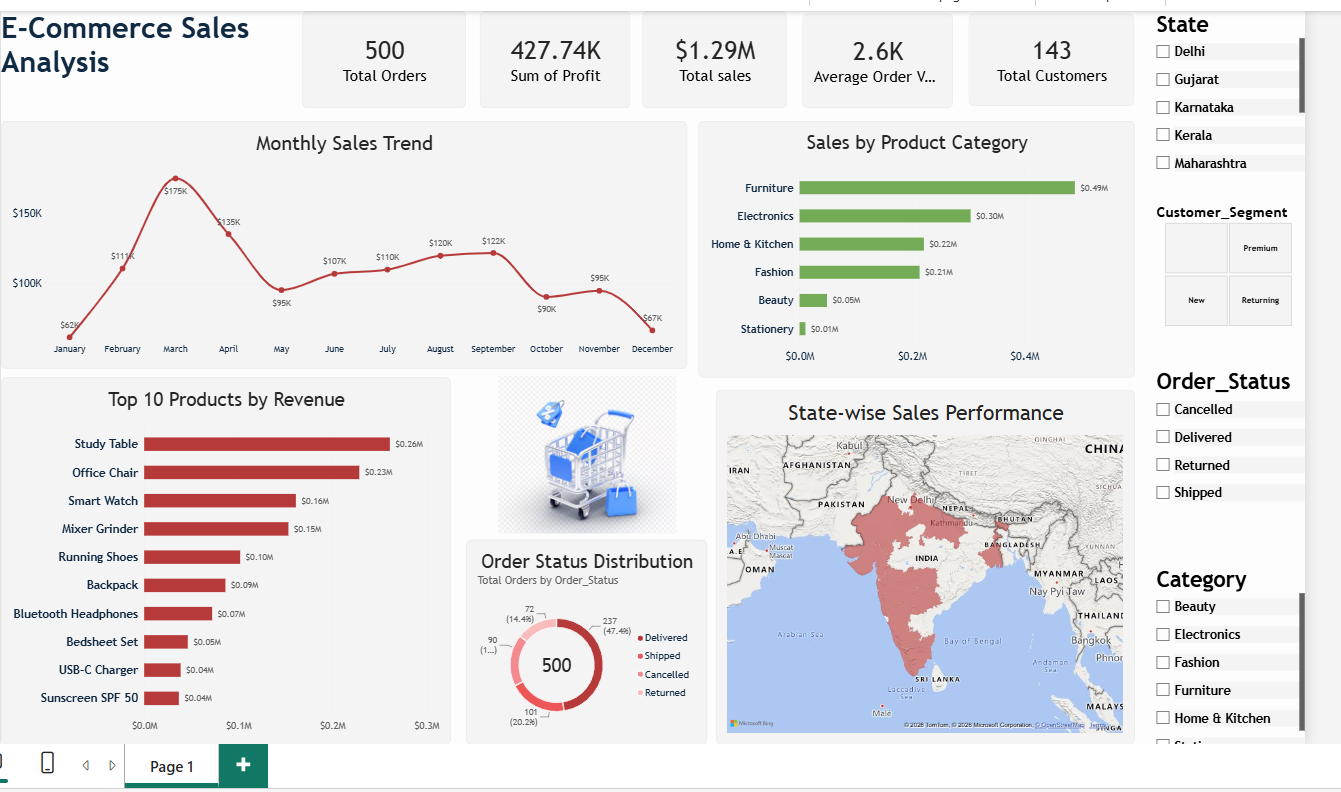

What the dashboard file says about the page in this screenshot:
{"tool":"powerbi","page":{"name":"Page 1","canvas":[1920,1080],"ordinal":0},"visuals":[{"type":"cardVisual","fields":{"Data":["ecommerce_orders.Total Customers"]},"box":[1424.5,3.7,244.8,136.2],"z":0},{"type":"cardVisual","fields":{"Data":["ecommerce_orders.Total sales"]},"box":[944.2,0,213.5,143.6],"z":1},{"type":"cardVisual","fields":{"Data":["ecommerce_orders.Average Order Value"]},"box":[1179.8,3.7,222.7,139.9],"z":3},{"type":"cardVisual","fields":{"Data":["ecommerce_orders.Total Orders"]},"box":[443.6,0,241.1,143.6],"z":4},{"type":"lineChart","title":"Monthly Sales Trend","fields":{"Category":["ecommerce_orders.Order_Date.Variation.Date Hierarchy.Month"],"Y":["ecommerce_orders.Total sales"]},"box":[0,162,1010.4,364.4],"z":5},{"type":"barChart","title":"Sales by Product Category","fields":{"Category":["ecommerce_orders.Category"],"Y":["ecommerce_orders.Total sales"]},"box":[1027,162,642.3,377.3],"z":6},{"type":"barChart","title":"Top 10 Products by Revenue","fields":{"Category":["ecommerce_orders.Product_Name"],"Y":["ecommerce_orders.Total sales"]},"box":[0,539.3,662.6,541.1],"z":7},{"type":"donutChart","title":"Order Status Distribution","fields":{"Category":["ecommerce_orders.Order_Status"],"Y":["ecommerce_orders.Total Orders"]},"box":[684.7,778.5,355.2,301.8],"z":8},{"type":"filledMap","title":"State-wise Sales Performance","fields":{"Category":["ecommerce_orders.State"]},"box":[1052.8,557.7,616.6,522.7],"z":9},{"type":"cardVisual","fields":{"Data":["Sum(ecommerce_orders.Profit)"]},"box":[704.9,0,222.7,143.6],"z":10},{"type":"slicer","fields":{"Values":["ecommerce_orders.State"]},"box":[1693.3,0,226.4,252.1],"z":11},{"type":"slicer","fields":{"Values":["ecommerce_orders.Customer_Segment"]},"box":[1693.3,283.4,226.4,182.2],"z":12},{"type":"slicer","fields":{"Values":["ecommerce_orders.Order_Status"]},"box":[1693.3,526.4,226.4,252.1],"z":13},{"type":"slicer","fields":{"Values":["ecommerce_orders.Category"]},"box":[1693.3,817.2,226.4,263.2],"z":14},{"type":"textbox","box":[0,0,444,150],"z":15},{"type":"image","box":[669.9,537.4,386.5,231.9],"z":16}]}

Visuals, with their boxes on the page's 1920x1080 design canvas (x1, y1, x2, y2). These are canvas units, not pixel positions in the 1341x792 screenshot, which may show the page scaled, cropped or inside an application window:
cardVisual - ecommerce_orders.Total Customers: 1424/4/1669/140
cardVisual - ecommerce_orders.Total sales: 944/0/1158/144
cardVisual - ecommerce_orders.Average Order Value: 1180/4/1402/144
cardVisual - ecommerce_orders.Total Orders: 444/0/685/144
"Monthly Sales Trend" lineChart: 0/162/1010/526
"Sales by Product Category" barChart: 1027/162/1669/539
"Top 10 Products by Revenue" barChart: 0/539/663/1080
"Order Status Distribution" donutChart: 685/778/1040/1080
"State-wise Sales Performance" filledMap: 1053/558/1669/1080
cardVisual - Sum(ecommerce_orders.Profit): 705/0/928/144
slicer - ecommerce_orders.State: 1693/0/1920/252
slicer - ecommerce_orders.Customer_Segment: 1693/283/1920/466
slicer - ecommerce_orders.Order_Status: 1693/526/1920/778
slicer - ecommerce_orders.Category: 1693/817/1920/1080
textbox: 0/0/444/150
image: 670/537/1056/769
